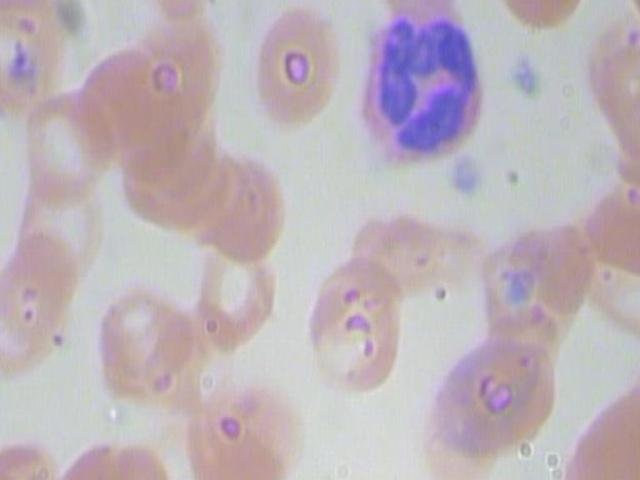Platelets: (503, 46, 544, 106)
RBC: (426, 319, 561, 464), (470, 213, 597, 345), (295, 258, 410, 392), (239, 0, 353, 131), (178, 372, 308, 480), (113, 113, 222, 240), (139, 115, 248, 242), (181, 143, 290, 270), (3, 85, 118, 199), (0, 161, 114, 275), (74, 41, 173, 165), (119, 82, 217, 206), (129, 0, 227, 120), (342, 192, 445, 304), (189, 229, 284, 349), (88, 284, 182, 404), (125, 306, 219, 425), (0, 225, 89, 349), (555, 373, 640, 480), (52, 426, 183, 480), (367, 0, 470, 37), (483, 0, 597, 32), (116, 0, 232, 28)
WBC: (354, 11, 487, 165)
